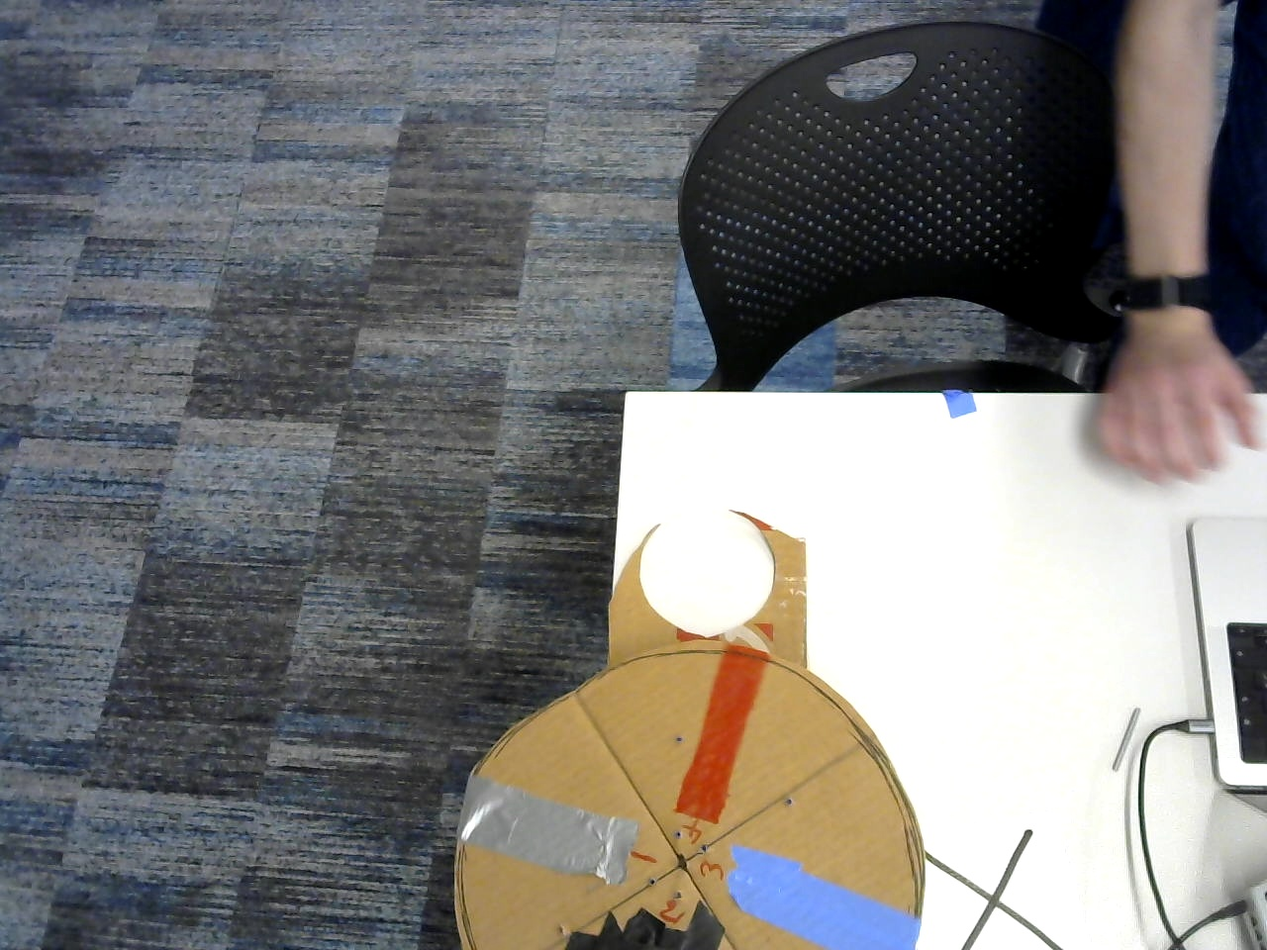black: (1230, 617, 1267, 771)
blue: (725, 845, 921, 950)
red: (672, 645, 770, 823)
silver: (461, 777, 640, 884)
x: (932, 831, 1049, 950)
